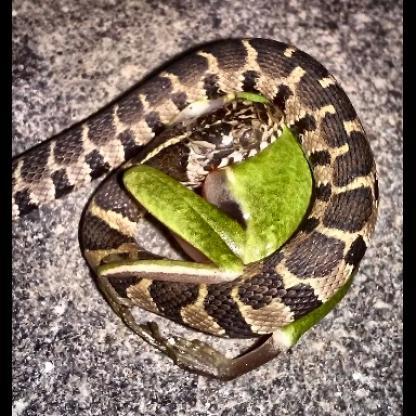Snake: (83, 13, 374, 414)
